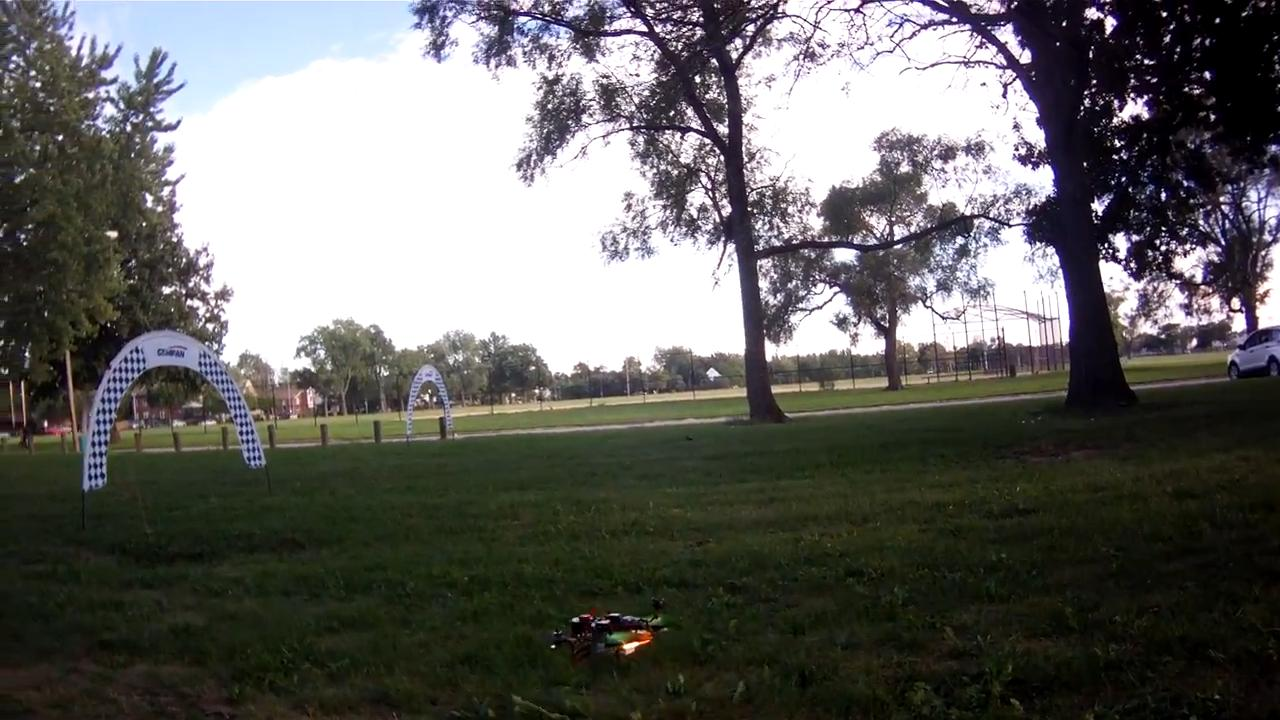gate: (80, 328, 262, 495), (404, 363, 453, 443)
